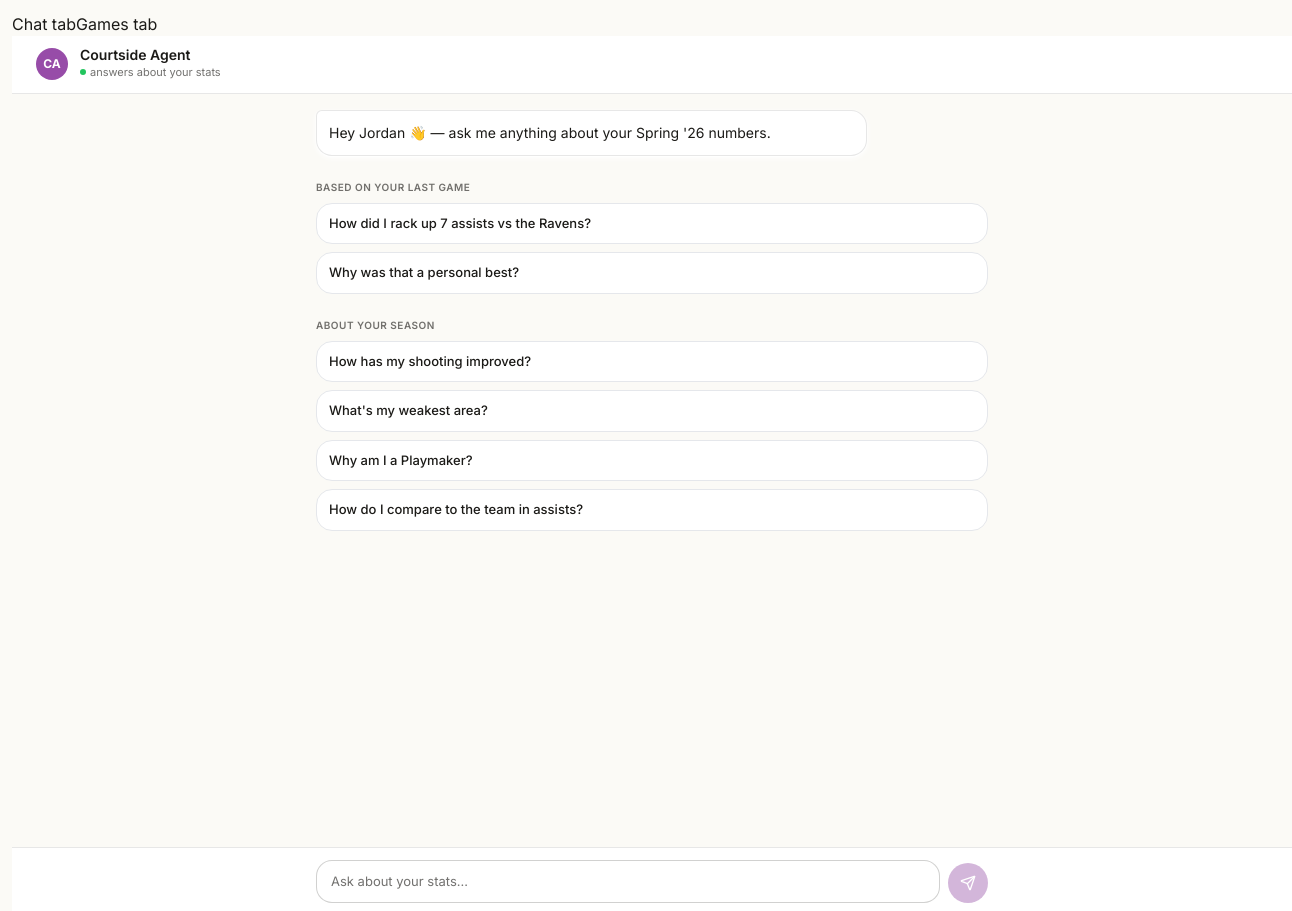
Scenario: ChatRoute › shows an error message when the request fails
Type "hi" into the text box with placeholder "Ask about your stats…". click: (628, 882)
box: top-left (331, 871), bottom-right (925, 892)
Then press Enter
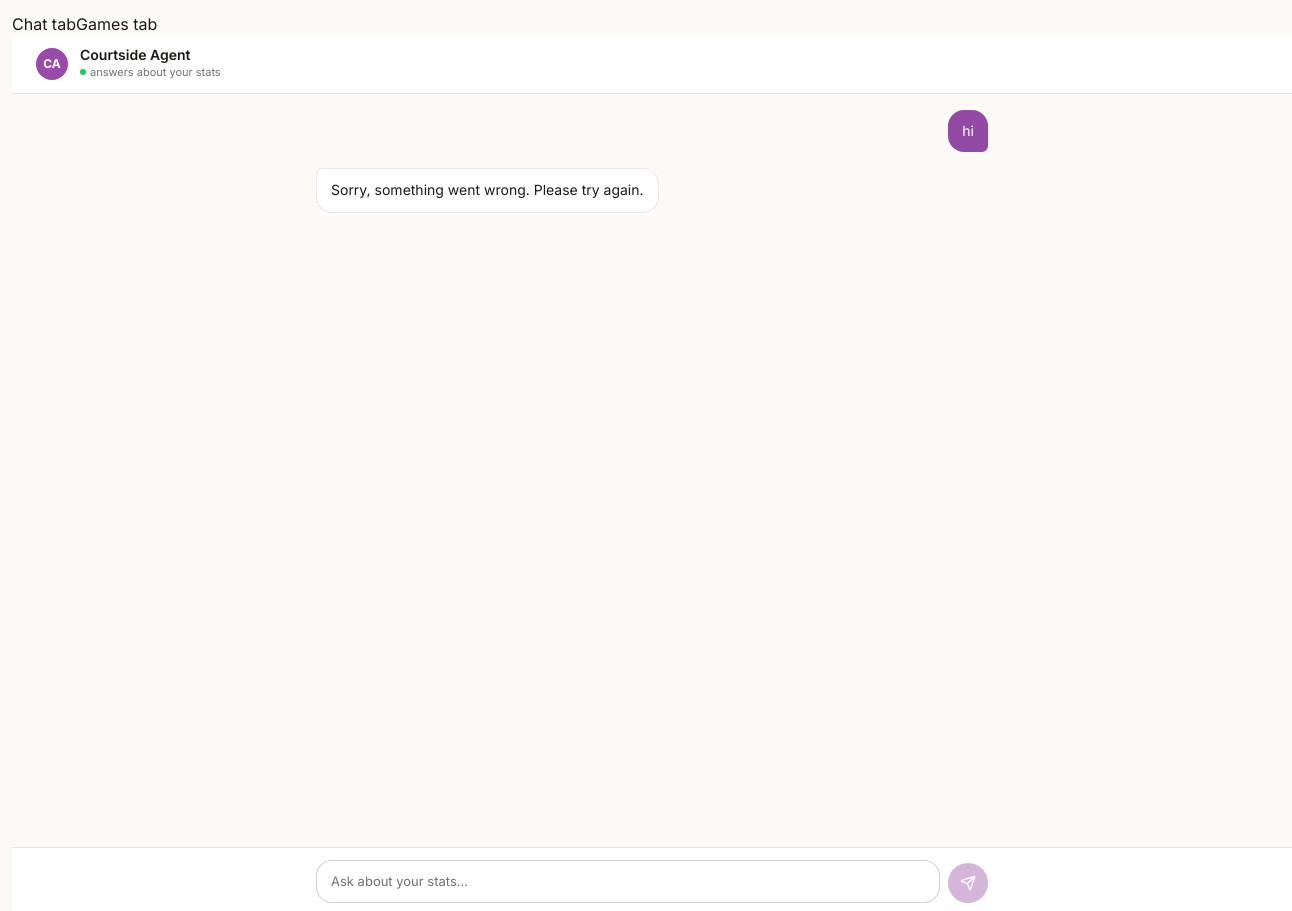
Now the text "Sorry, something went wrong. Please try again." is shown, box top-left (331, 179), bottom-right (644, 202)
